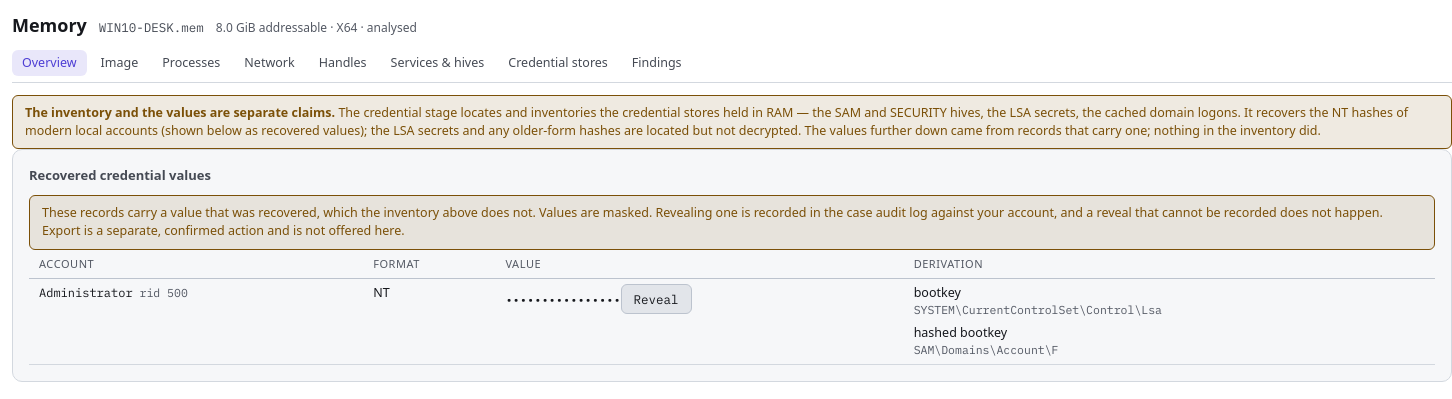
Test: MemoryCredentialsPage — recovered values › keeps the value masked when the reveal could not be recorded
Click the button "Reveal" at (656, 298), box [621,284,692,314]
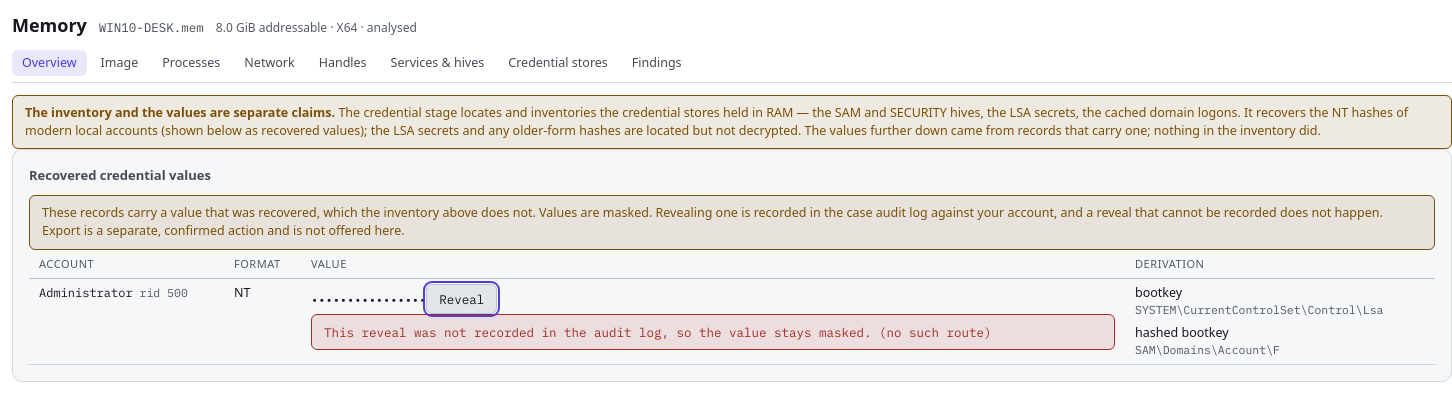
Expected: the text named "value masked" is shown, [311,292,426,306]
Expected: the text "was not recorded in the audit log" is shown, [324,324,887,340]
